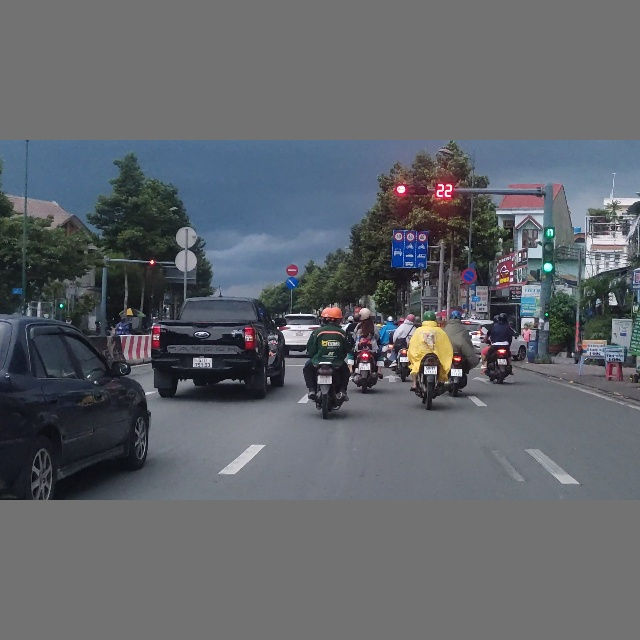P.102: (286, 264, 299, 276)
P.127*60: (394, 231, 403, 241), (418, 232, 427, 242), (406, 232, 415, 241)
P.131a: (461, 267, 477, 284)
R.302a: (286, 277, 297, 289)
R.415a: (392, 242, 427, 268)
